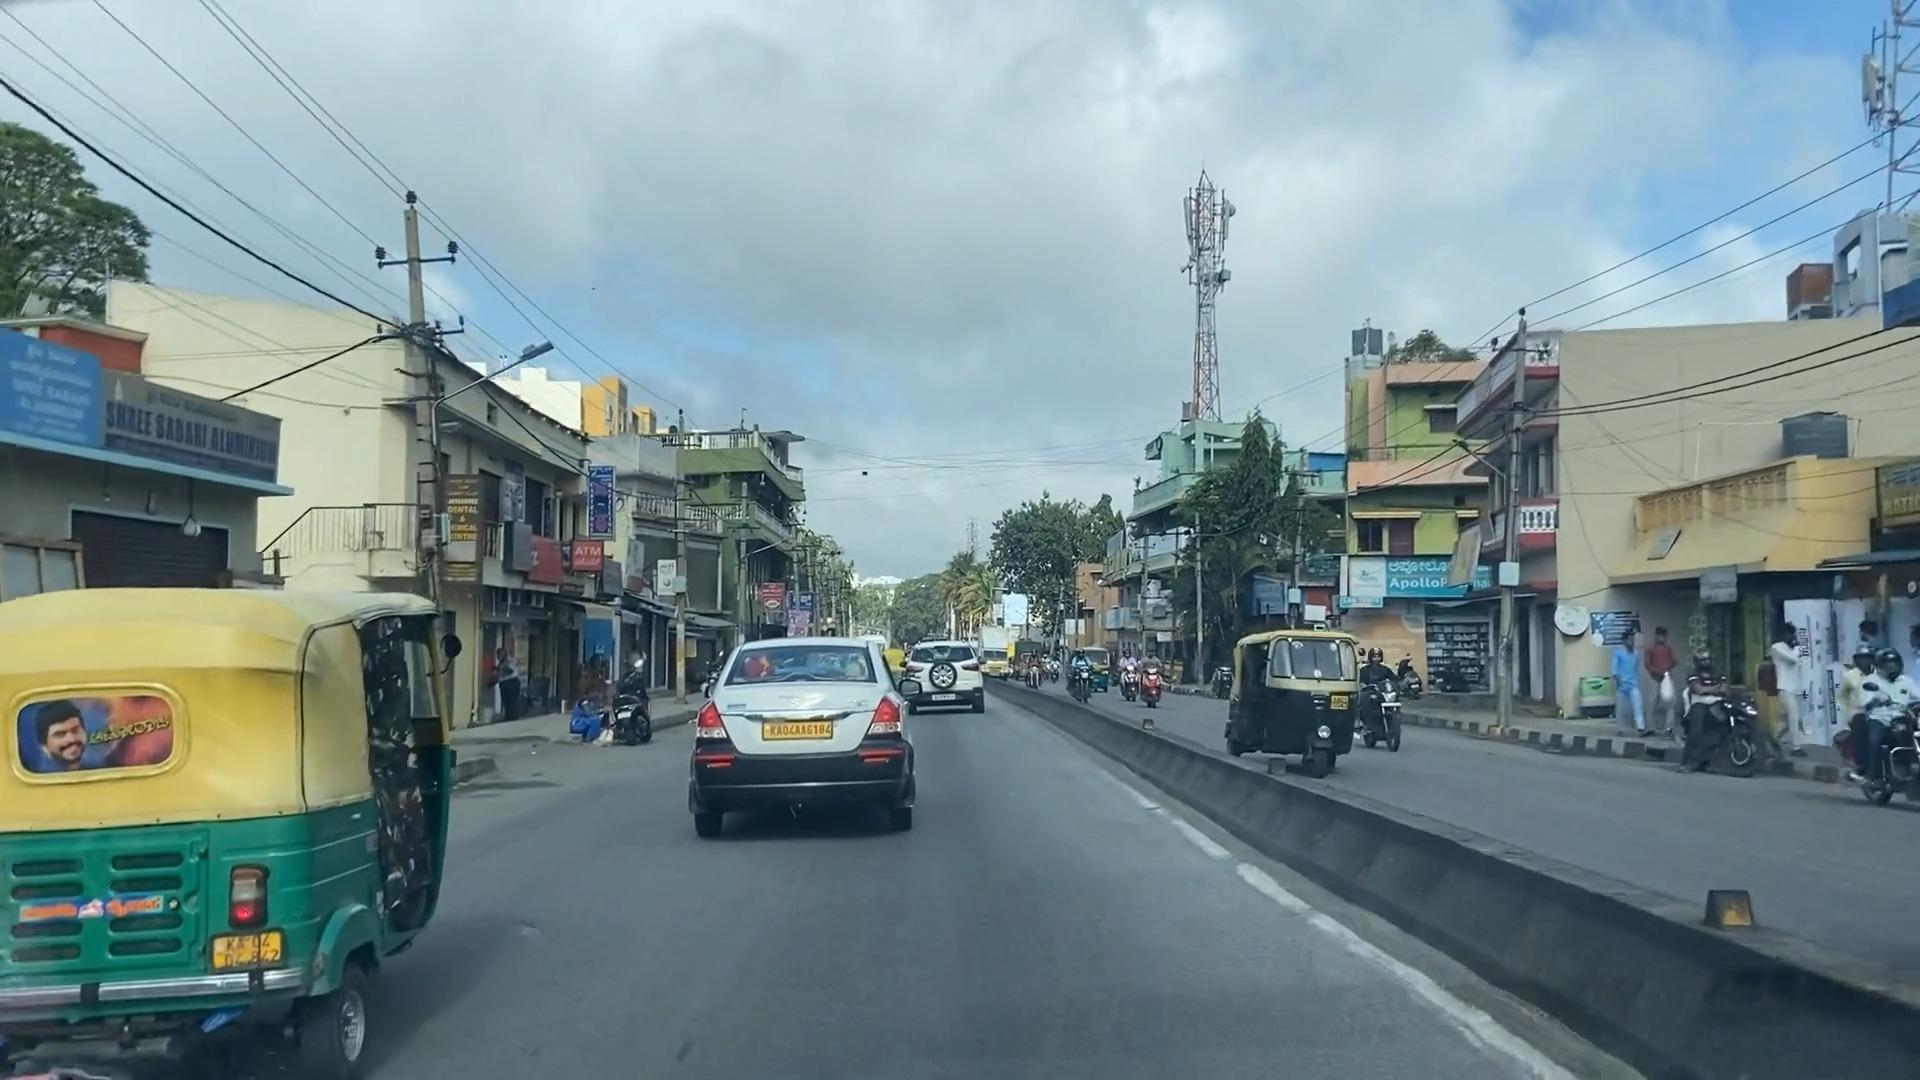LMV: (0, 591, 456, 1080), (696, 645, 914, 841)
